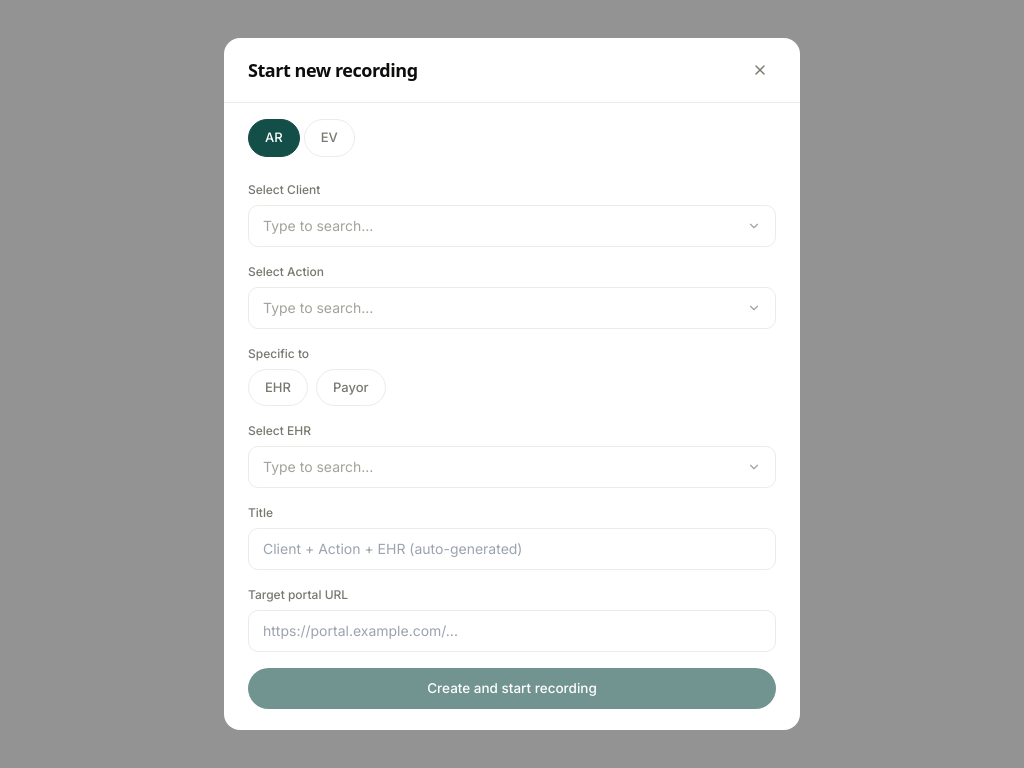
Test: RecordingFormSectionA › shows and loads the subscenario field for an action that has some
Click the button "Type to search…" below "Select Action" at x=318, y=307, box x1=248 y1=287 x2=776 y2=329
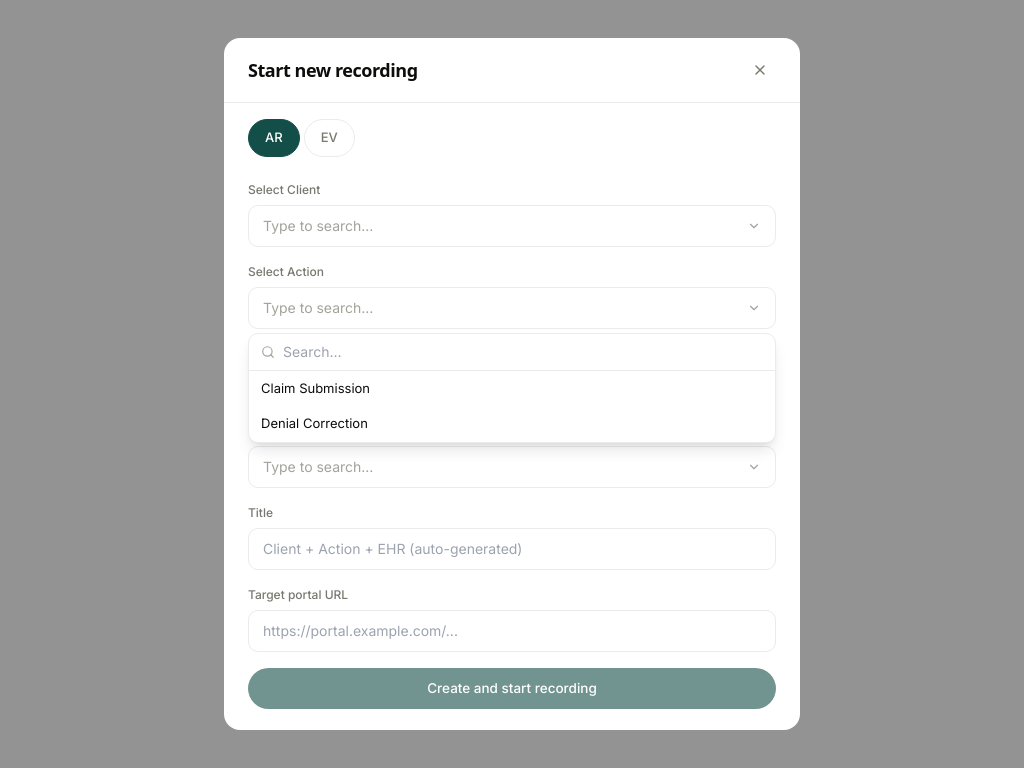
Click the button "Denial Correction" at x=314, y=423, box x1=249 y1=406 x2=775 y2=442
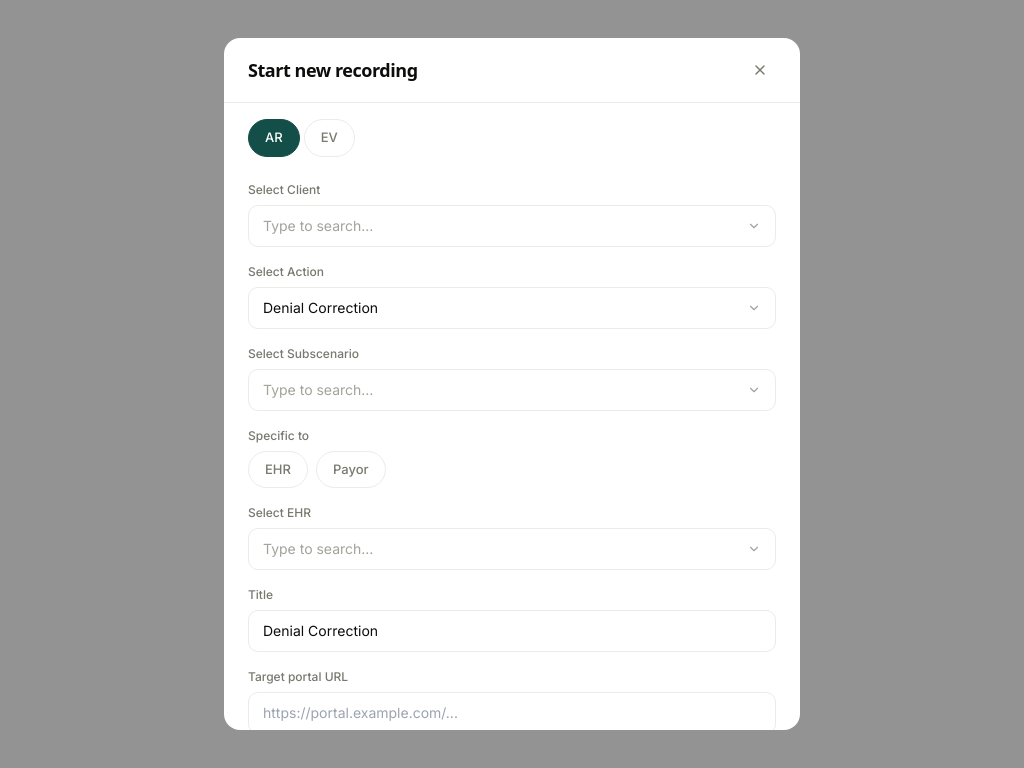
Now the text "Select Subscenario" is shown, box x1=248 y1=346 x2=359 y2=361
Click the button "Type to search…" below "Select Subscenario" at x=318, y=389, box x1=248 y1=369 x2=776 y2=411
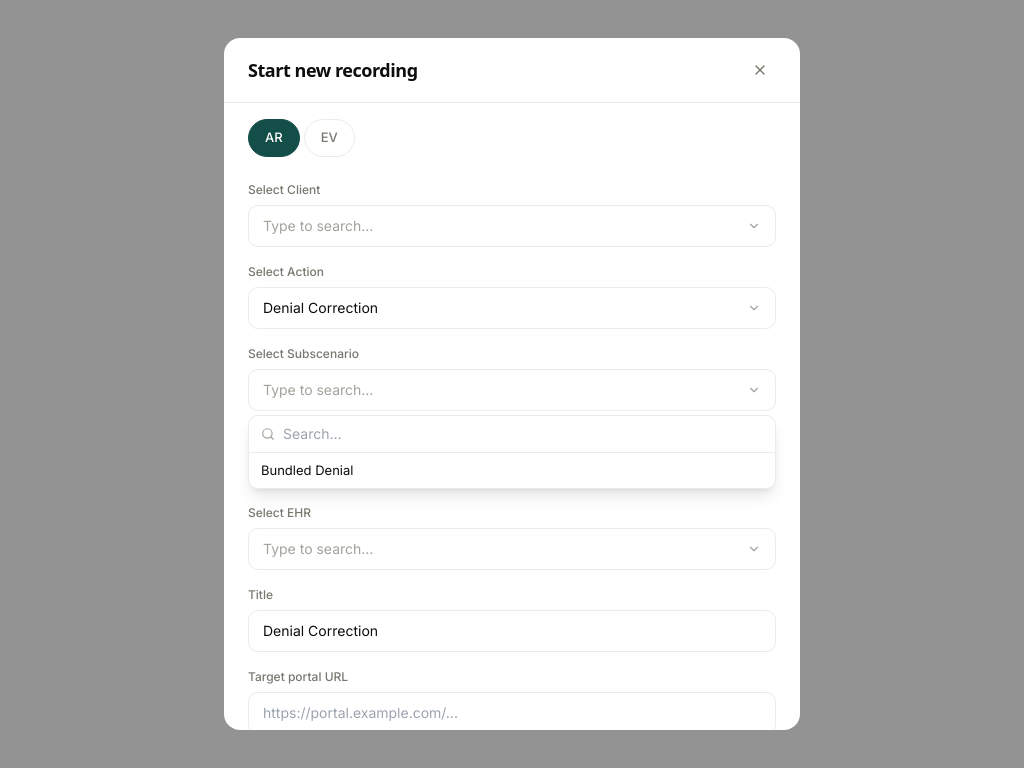
Now the button "Bundled Denial" is shown, box x1=249 y1=453 x2=775 y2=488
